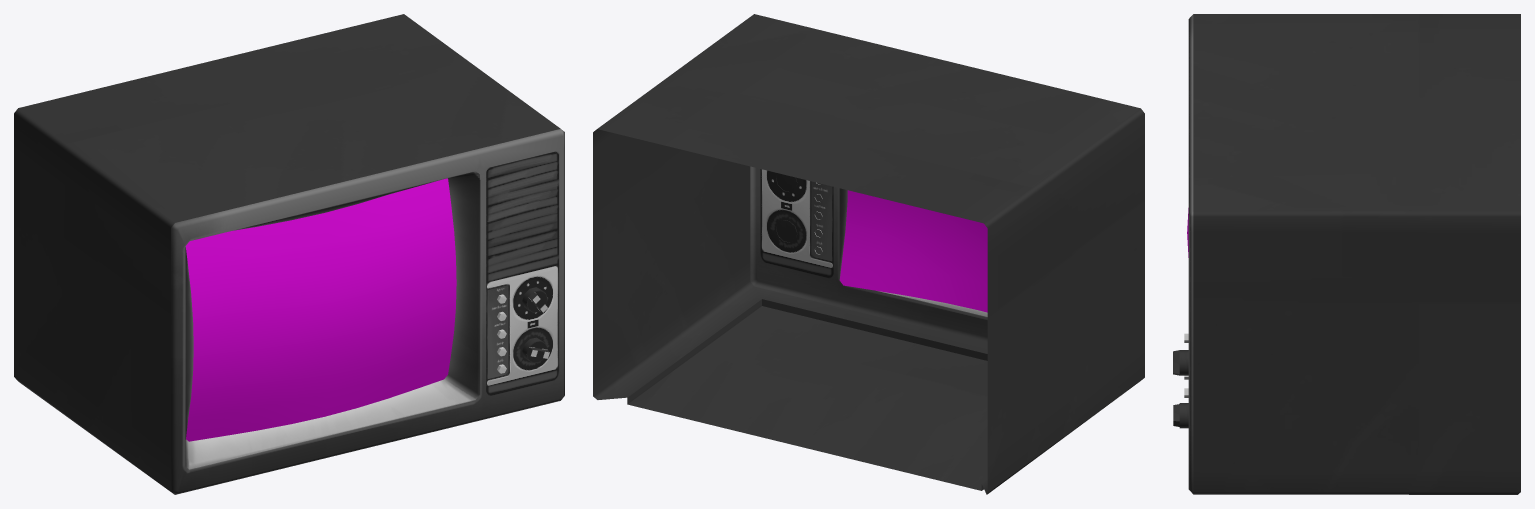
The model's file is mdl_tv.fbx.
3 views of the same model, side by side, from view 1: azimuth 30°, elevation 25°; view 2: azimuth 150°, elevation 25°; view 3: azimuth 270°, elevation 25° (orthographic). The views are drawn at different scales.
Visible parts, largest first — view 1: mesh_tv; view 2: mesh_tv; view 3: mesh_tv.
Part boxes in pixels (<box>): mesh_tv: <box>14,14,564,494</box>; mesh_tv: <box>593,14,1144,494</box>; mesh_tv: <box>1173,14,1520,494</box>.
Size of the model in its own units: 50 by 33.83 by 36.63.
Materials: 2 (1 with a texture image).
